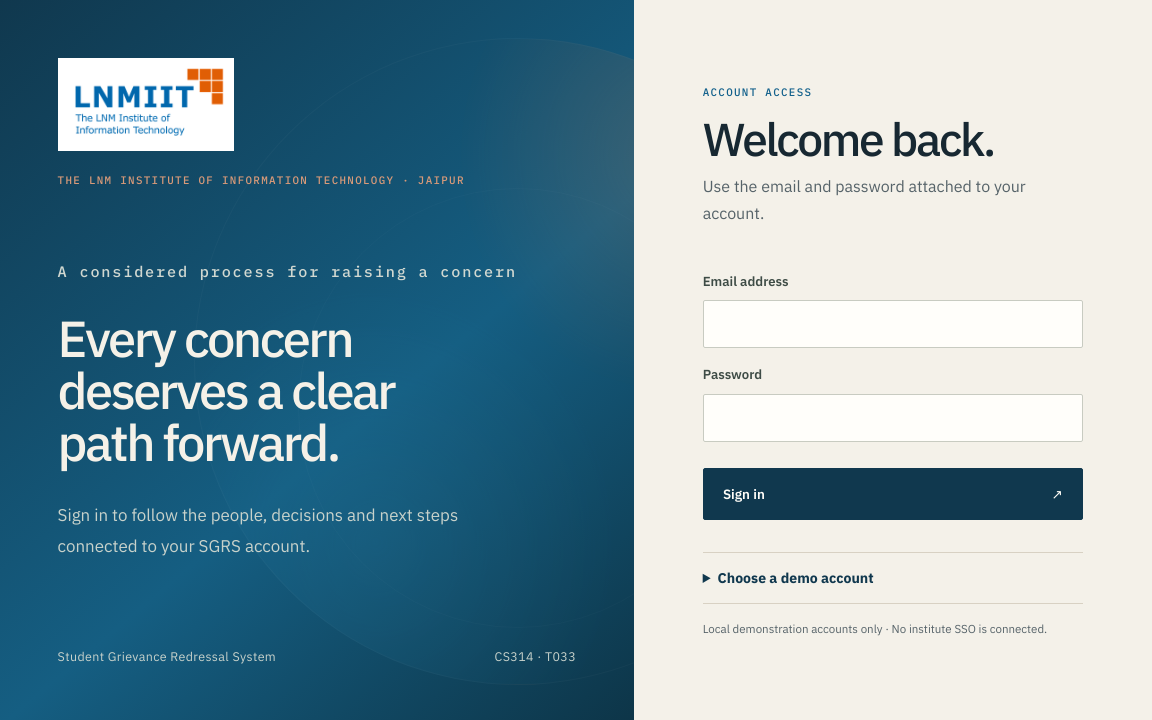
Test: authentication experience › redirects to the authenticated role home returned by the server
This screenshot has width=1152, height=720.
Expected: the heading "Welcome back." is shown, [703, 109, 994, 169]
Type "management@demo.sgrs.local" into the field labelled "Email address" at (893, 324), box [703, 300, 1083, 348]
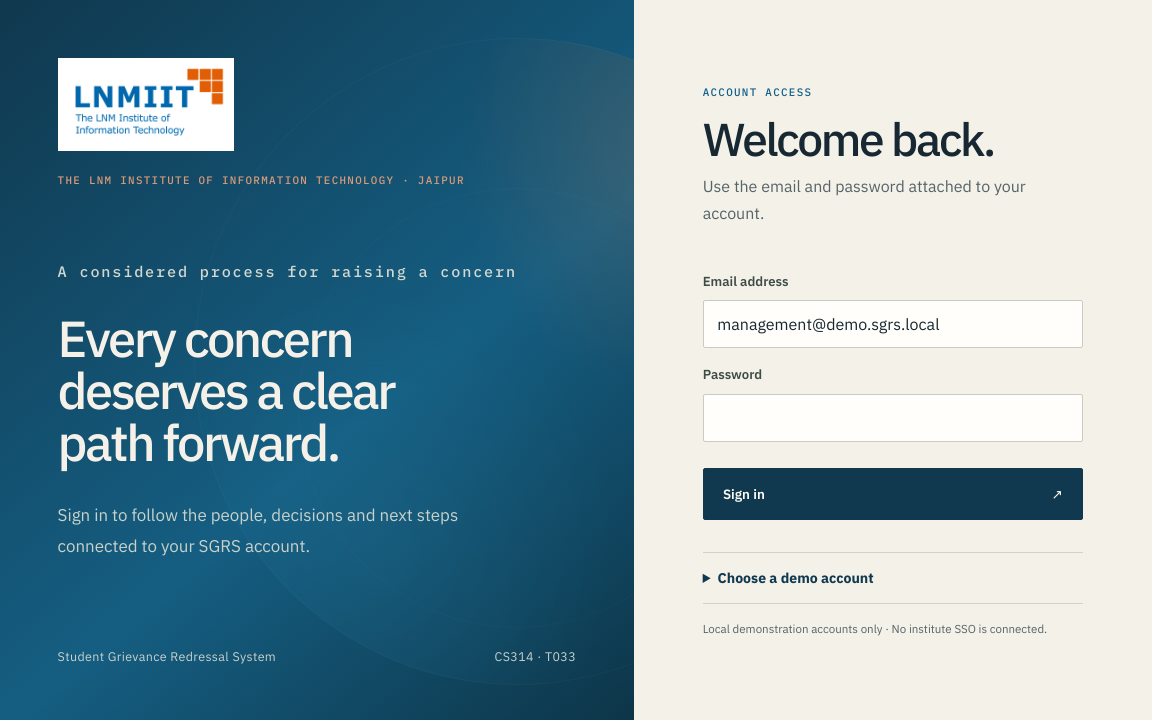
Type "demo password" into the password field labelled "Password" at (893, 418), box [703, 394, 1083, 442]
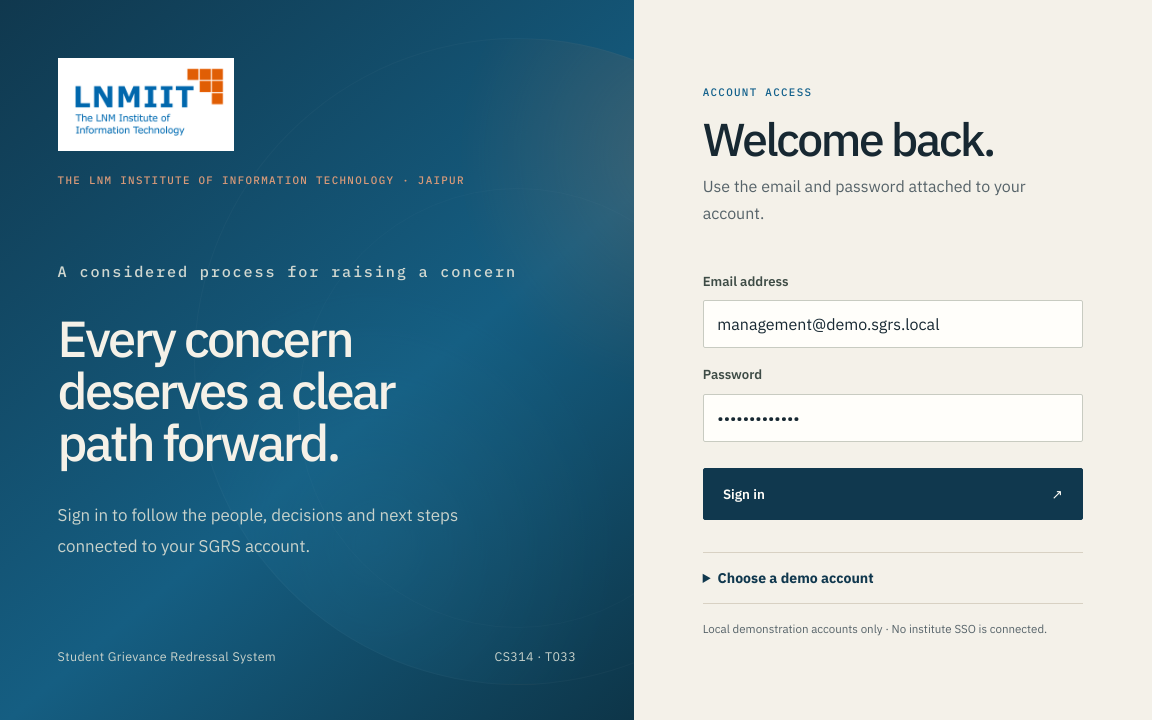
Click the button "Sign in ↗" at (744, 494), box [703, 468, 1083, 520]
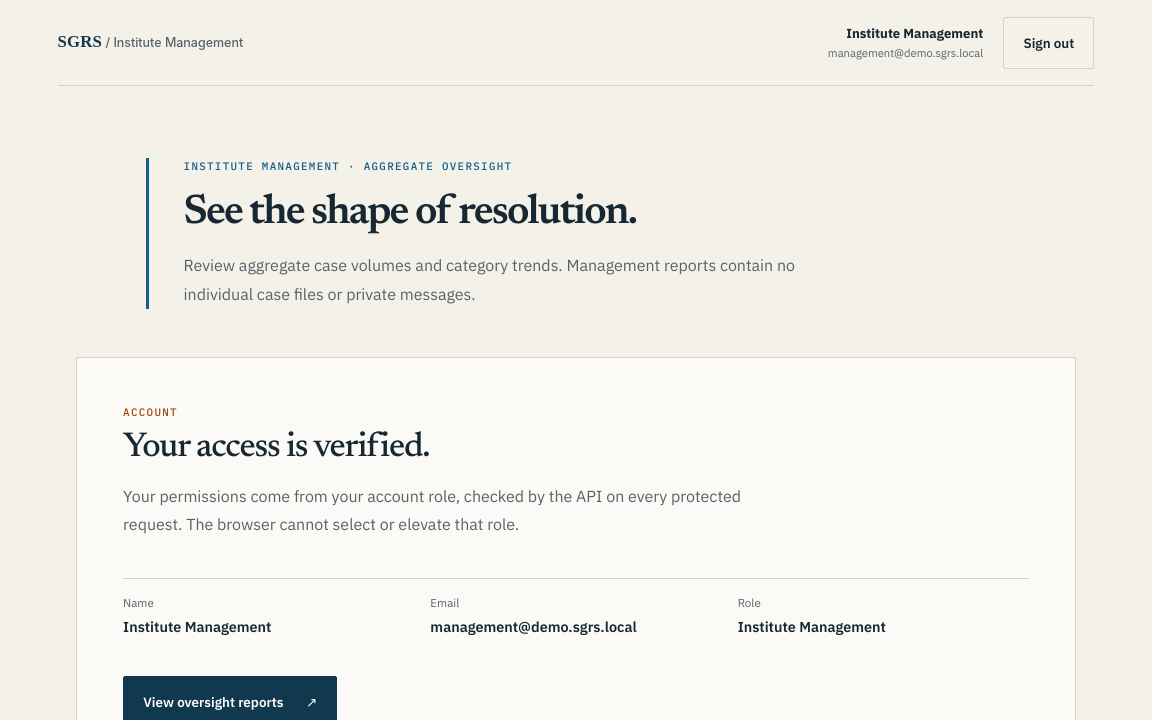
Expected: the heading "See the shape of resolution." is shown, [184, 193, 636, 234]
